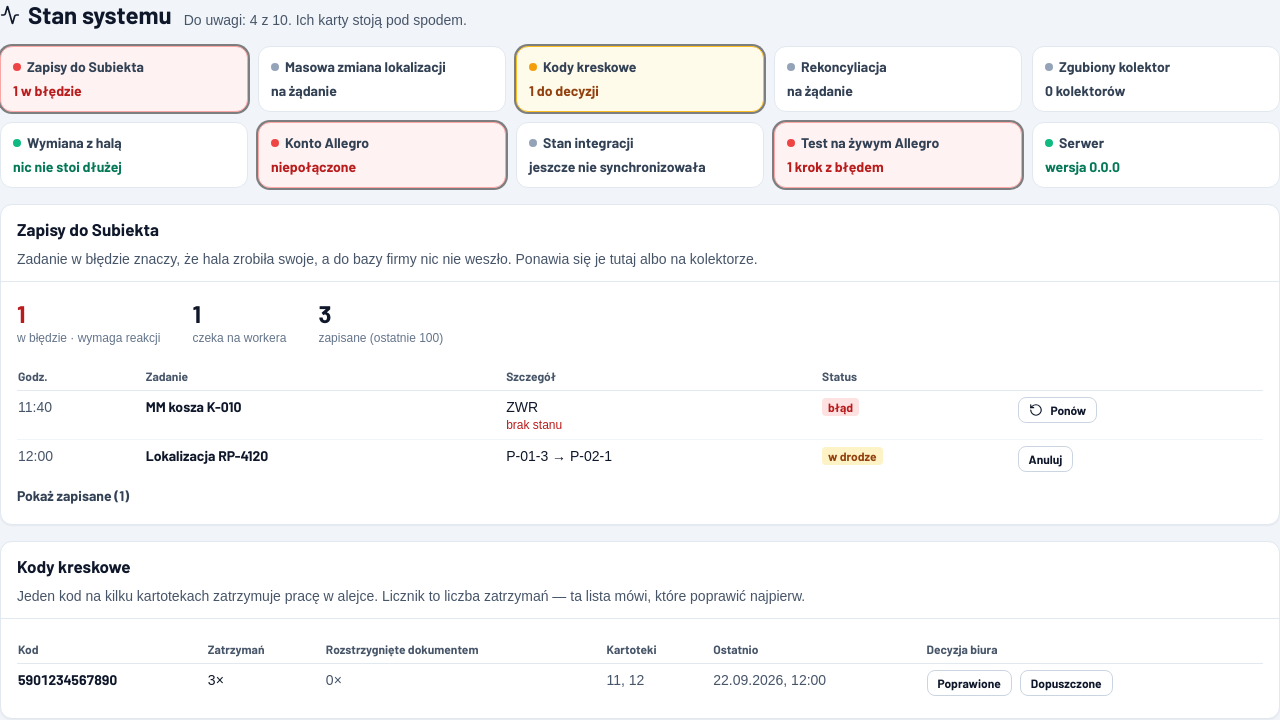
Test: Stan systemu w panelu › kafelek zamyka i otwiera kartę także obszaru do uwagi
Expected: the text "5901234567890" is shown, left=17, top=664, right=207, bottom=702
Click the button "Kody kreskowe 1 do decyzji": {"x": 640, "y": 79} left=516, top=46, right=764, bottom=112
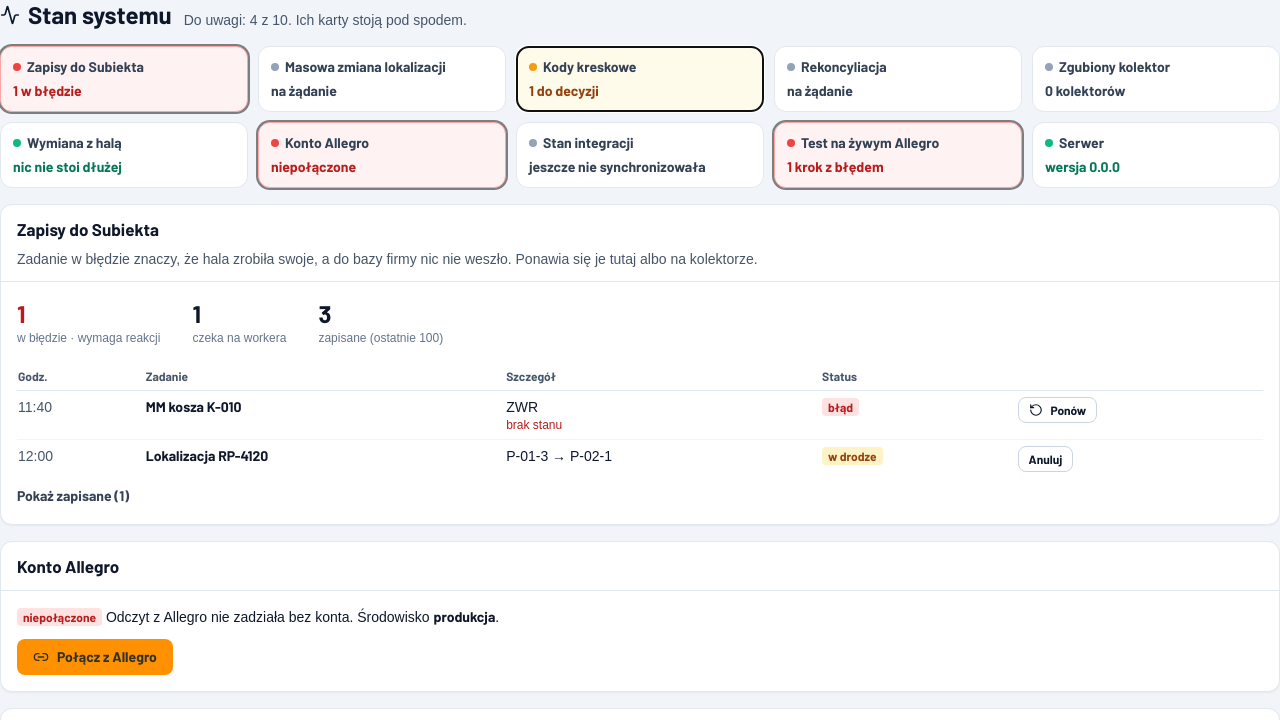
Click the button "Kody kreskowe 1 do decyzji": {"x": 640, "y": 79} left=516, top=46, right=764, bottom=112
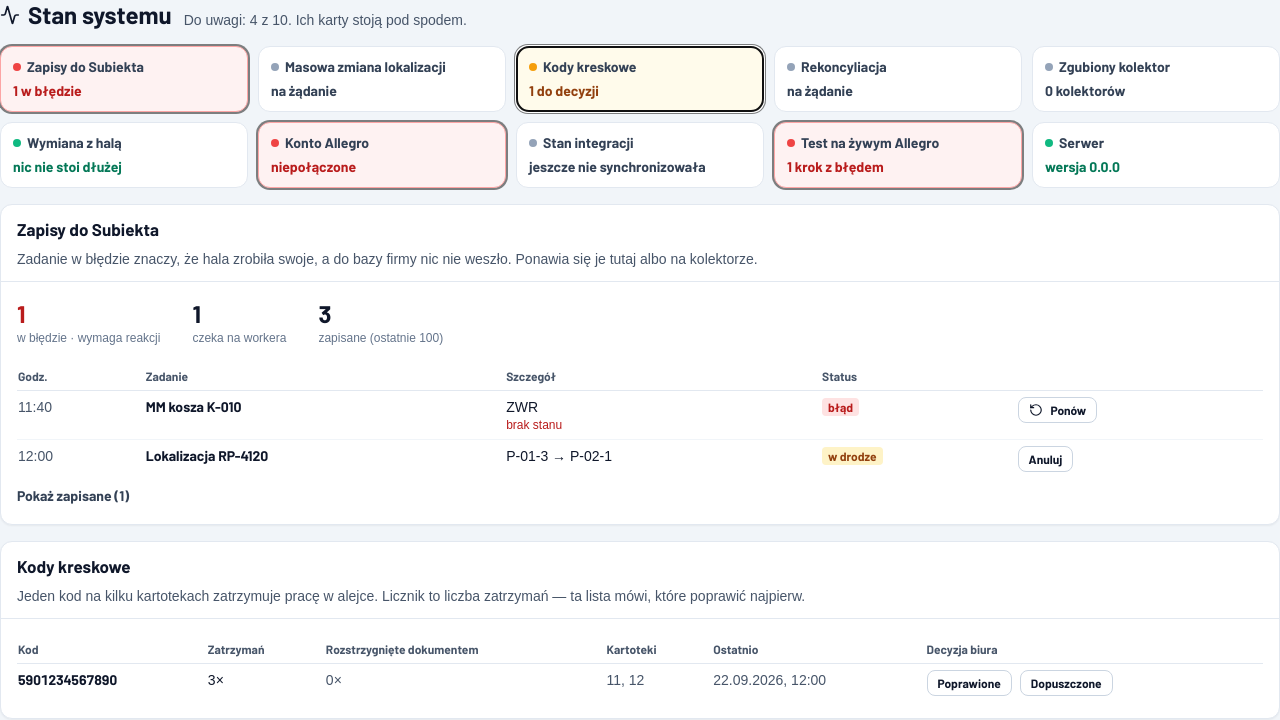
Now the text "5901234567890" is shown, box left=17, top=664, right=207, bottom=702
